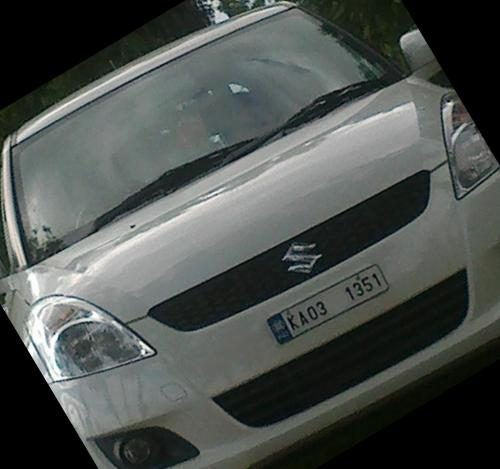plate: (262, 246, 407, 358)
